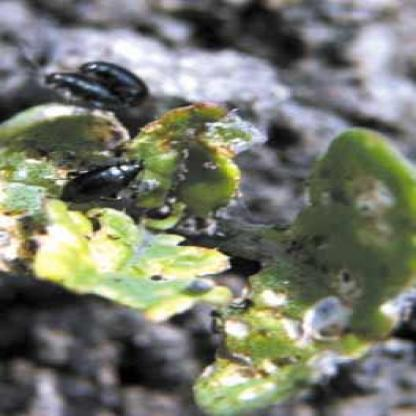beetle: (60, 157, 149, 202), (79, 59, 144, 108), (41, 71, 126, 107)
